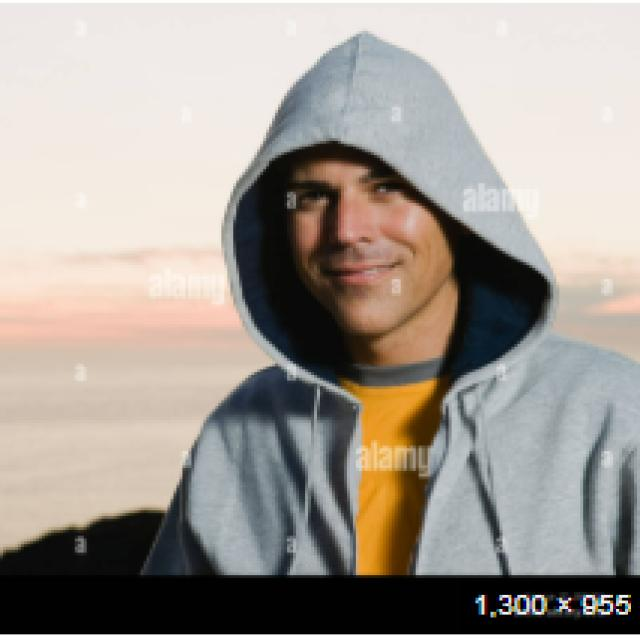4_capucha: (217, 30, 562, 405)
